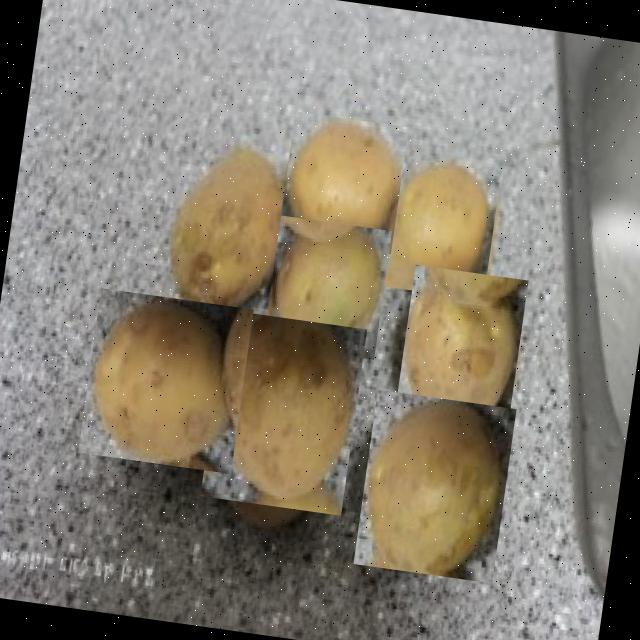Potato: (200, 308, 366, 514), (77, 287, 253, 473), (352, 388, 516, 582), (158, 133, 302, 320), (393, 264, 528, 434), (277, 110, 408, 254), (262, 214, 391, 358), (384, 156, 501, 300)
